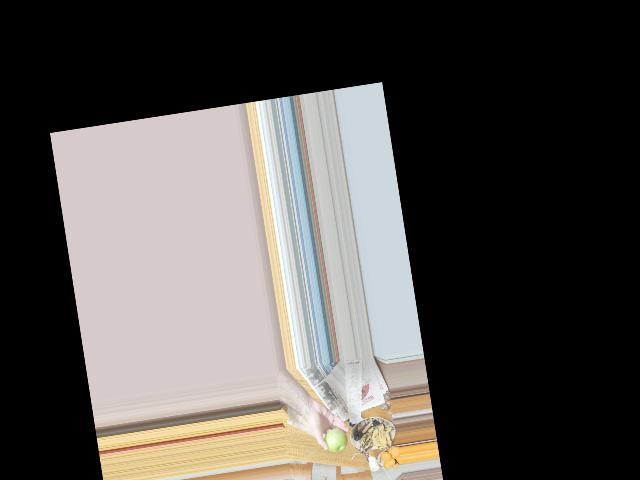apple: (323, 428, 348, 455)
